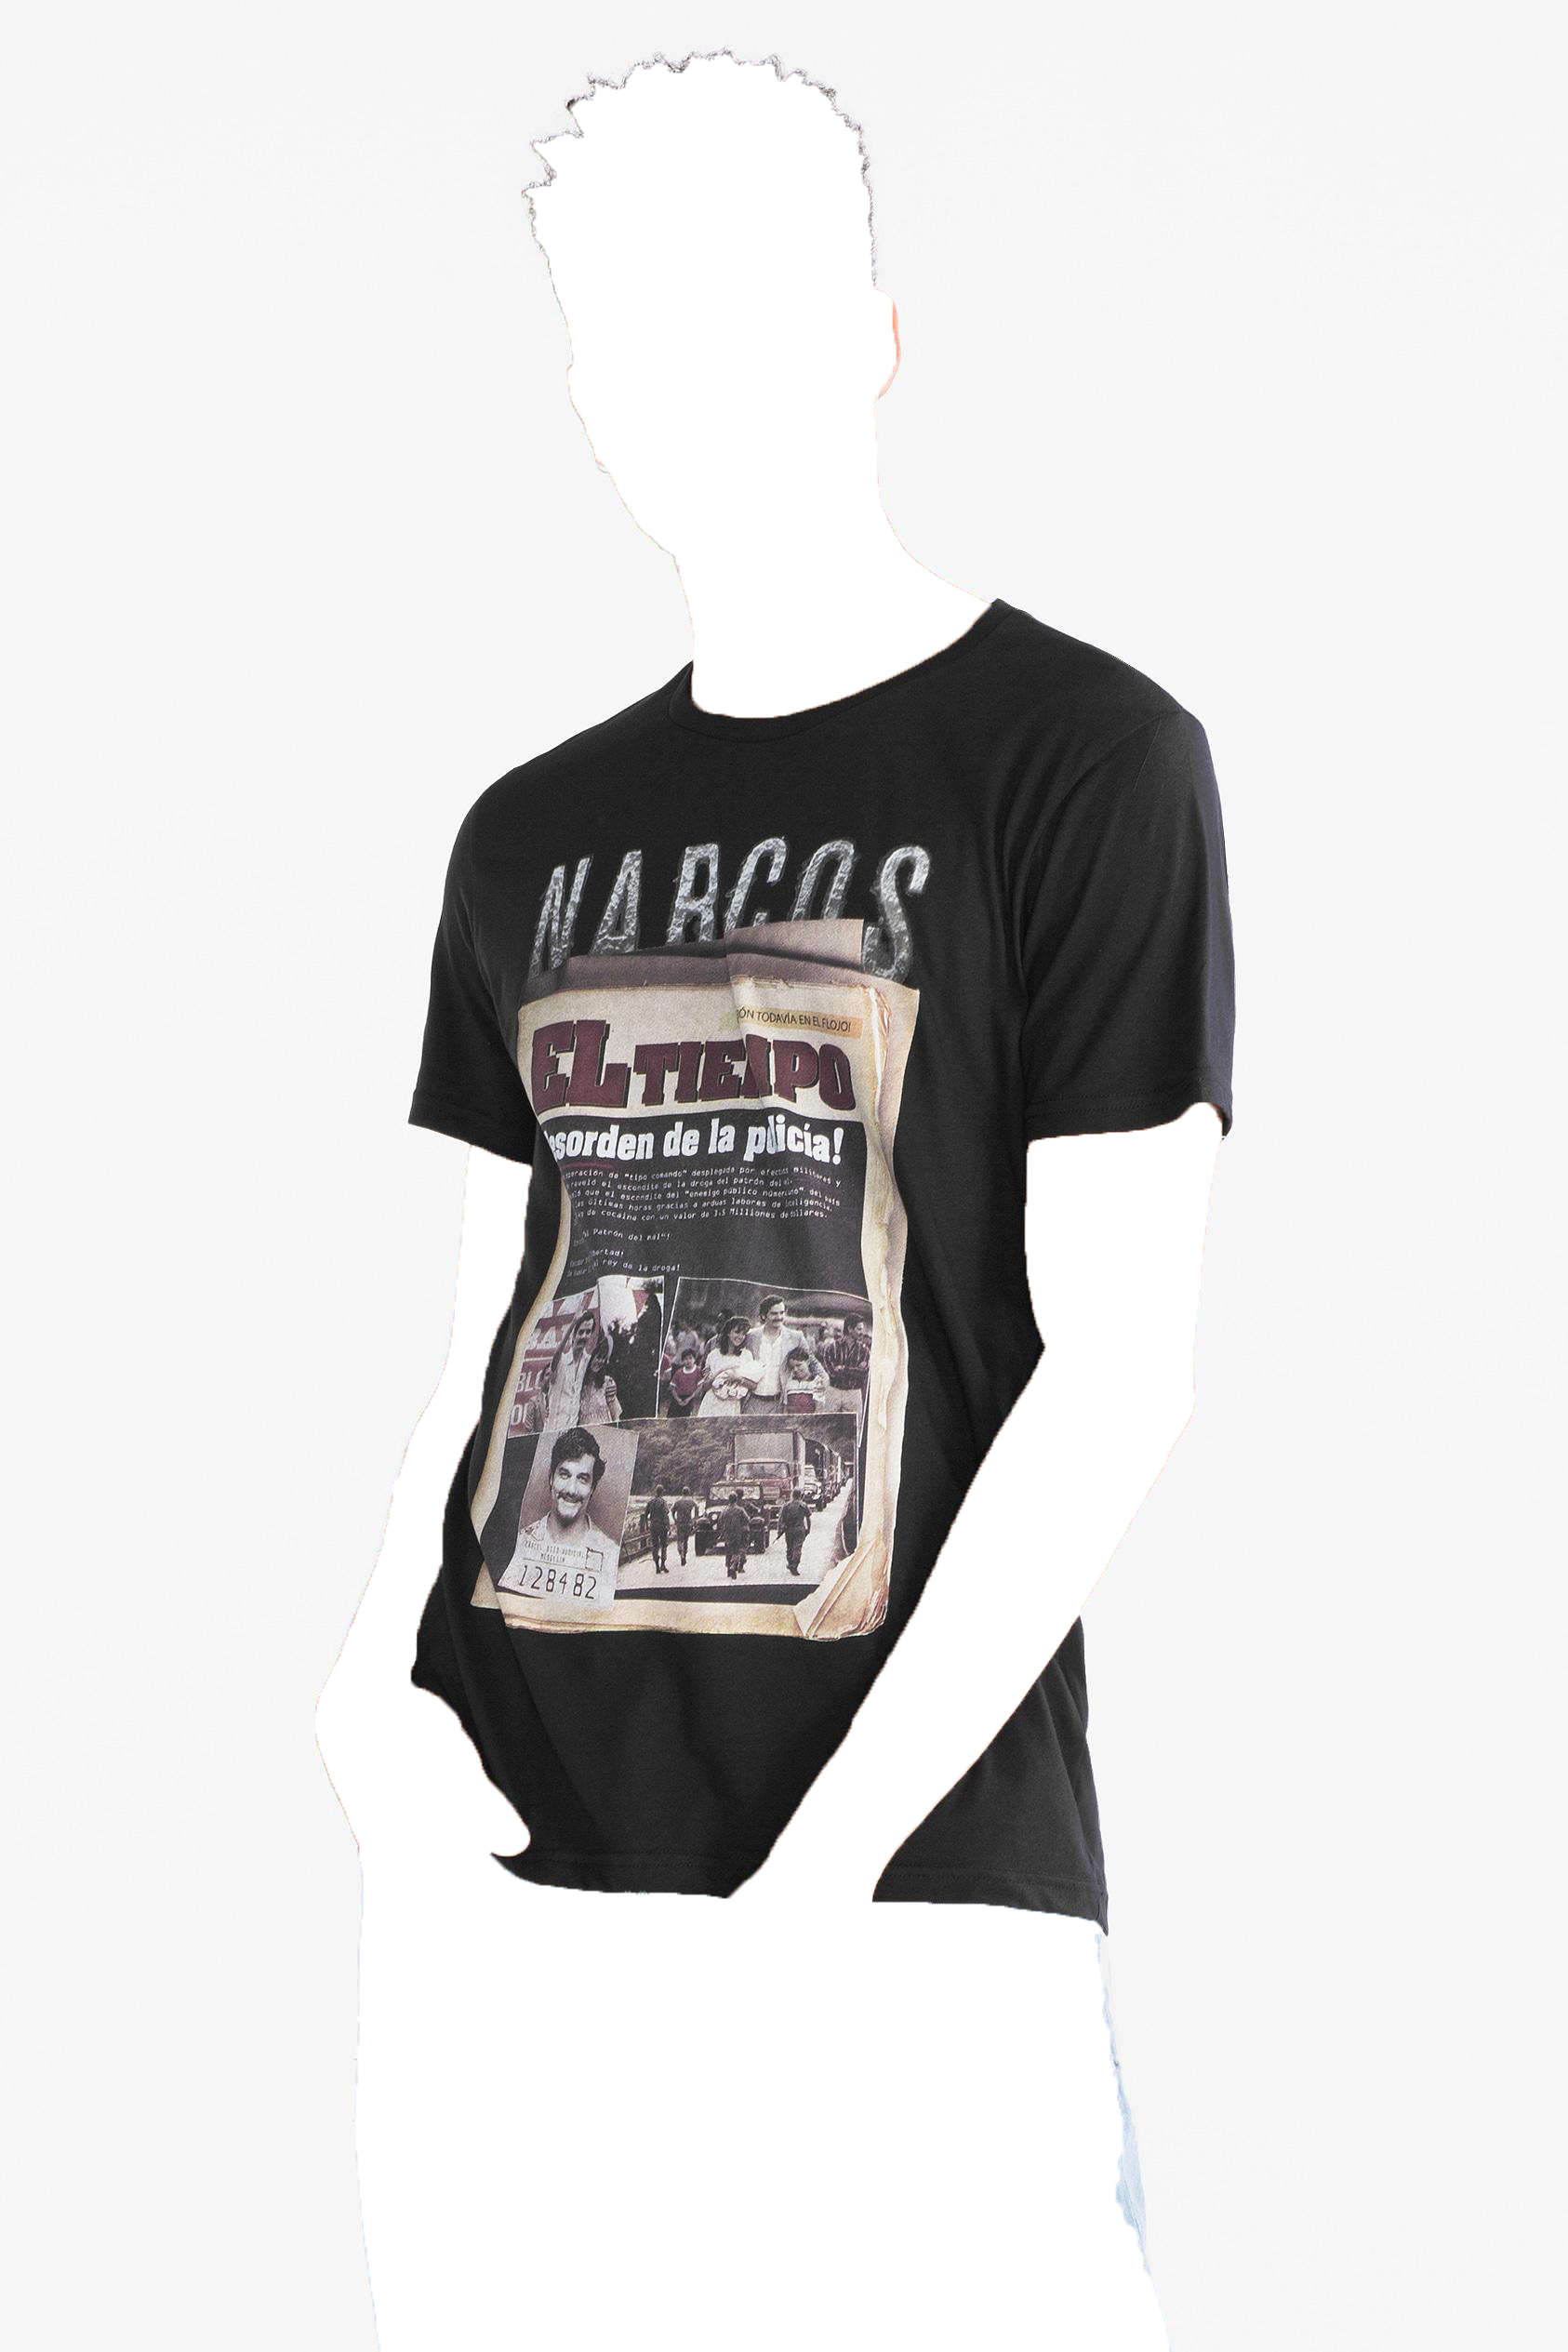teeshirt: (381, 600, 1286, 1923)
